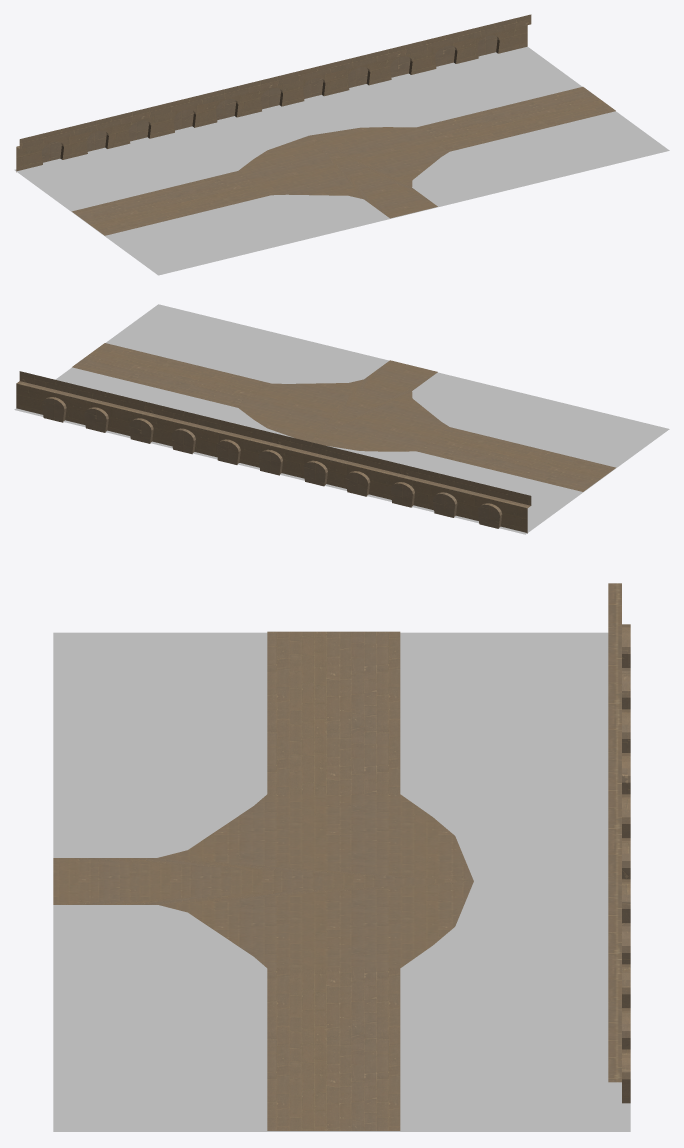
Rendered from greek_outside.fbx.
3 renders of one model, top to bottom at view 1: azimuth 30°, elevation 25°; view 2: azimuth 150°, elevation 25°; view 3: azimuth 270°, elevation 25°, orthographic. The views are drawn at different scales.
Visible parts, largest first — view 1: greek_outside; view 2: greek_outside; view 3: greek_outside.
Boxes of the visible parts, x1,y1,x2,y2 form: greek_outside: [14, 14, 669, 275]; greek_outside: [14, 304, 669, 534]; greek_outside: [53, 583, 630, 1131].
Bounding box in the file's own units: 49.85 × 3.32 × 24.37.
